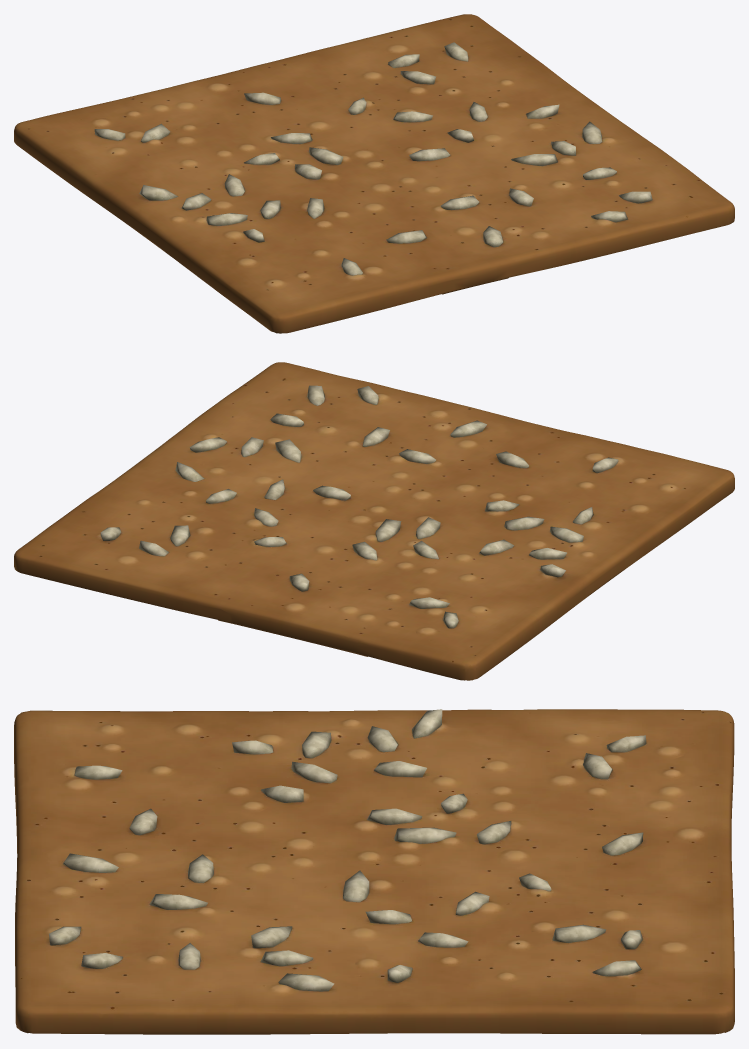
Rendered from cracker--sunflowerseed-seed.glb.
The picture shows the model from 3 angles, top to bottom: view 1: azimuth 30°, elevation 25°; view 2: azimuth 150°, elevation 25°; view 3: azimuth 270°, elevation 25°; orthographic projection. The views are drawn at different scales.
Parts seen in each view (by area): view 1: cracker_sunflowerseed-seed; view 2: cracker_sunflowerseed-seed; view 3: cracker_sunflowerseed-seed.
Part boxes in pixels (x1,y1,x2,y2): cracker_sunflowerseed-seed: [14, 14, 734, 333]; cracker_sunflowerseed-seed: [14, 362, 734, 680]; cracker_sunflowerseed-seed: [14, 709, 734, 1034].
Size of the model in its own units: 1.01 by 0.0598 by 1.
Materials: 1 (1 with a texture image).
